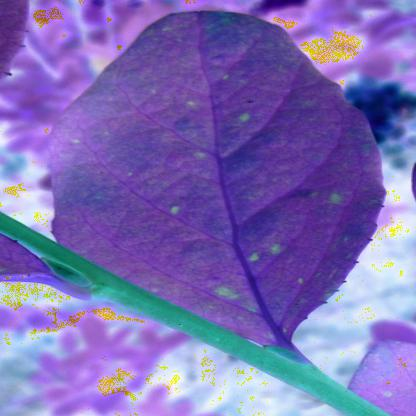blueberry leaf: (53, 4, 394, 369)
